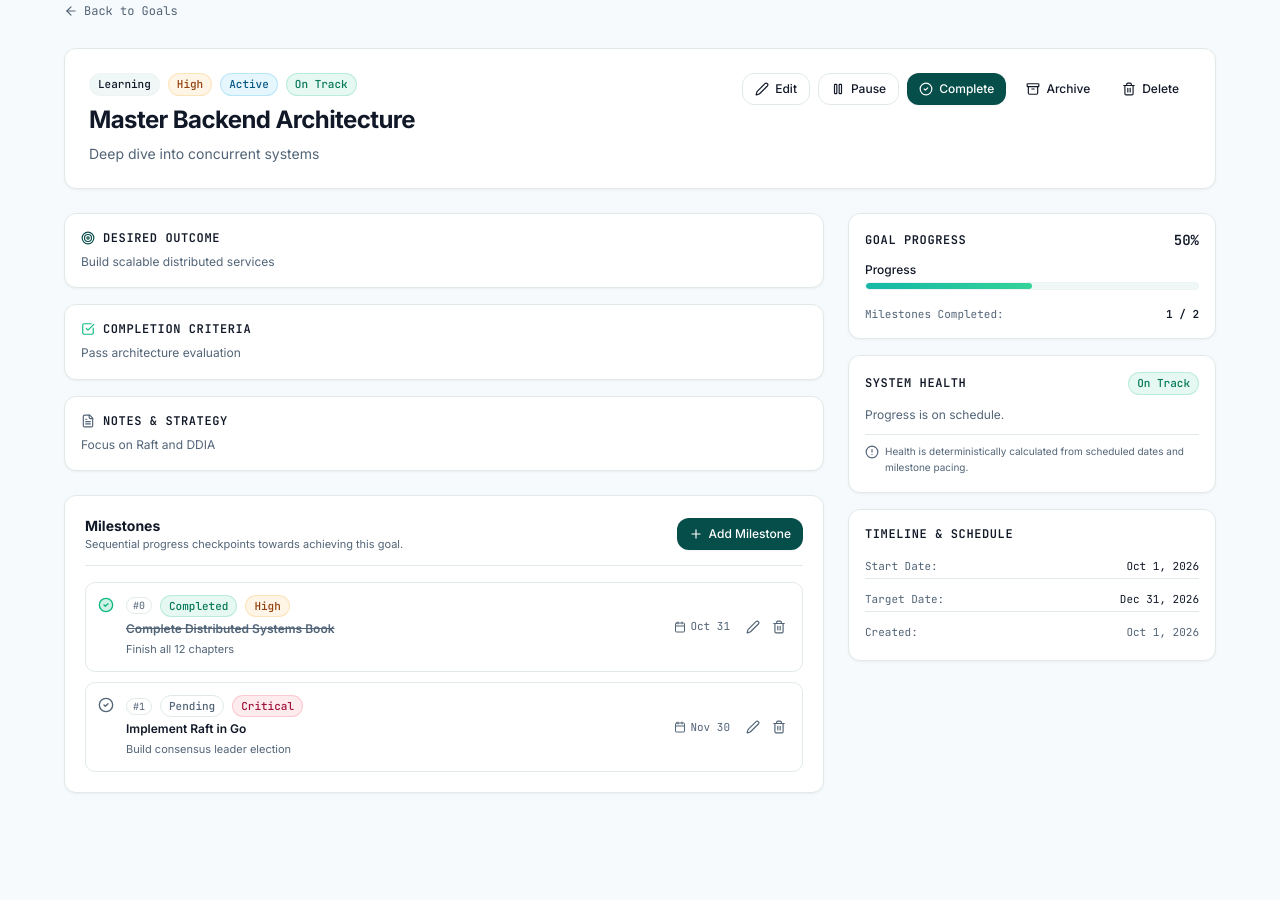
Test: GoalDetailPage Component › opens Delete Confirmation dialog when clicking Delete button
The image size is (1280, 900).
What coordinates should you click on to do the following:
click the button "Delete"
I would click on:
 (1151, 89)
Its box is [1110, 73, 1191, 105].
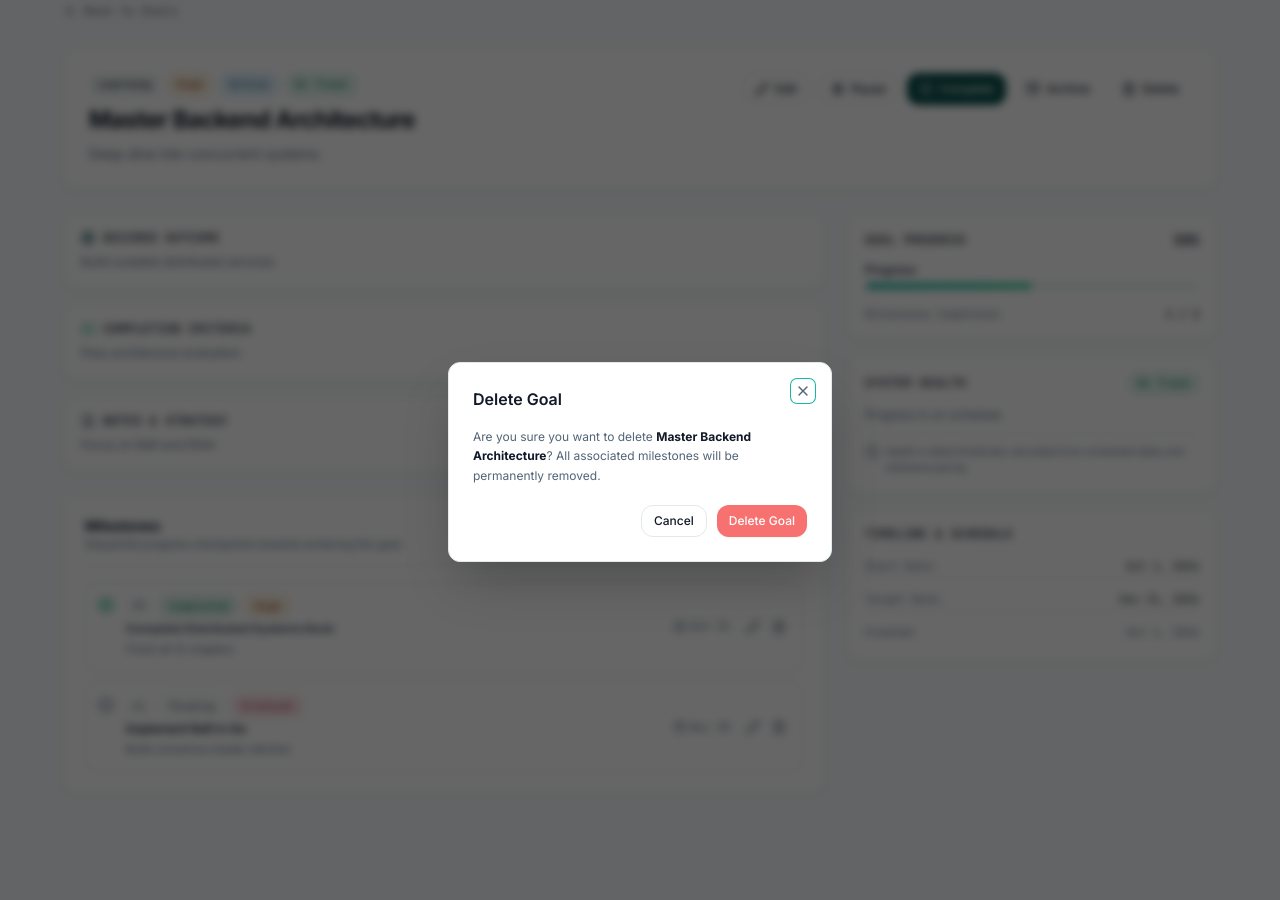
Now the heading "Delete Goal" is shown, box [473, 389, 562, 409]
Now the text "All associated milestones will be permanently removed" is shown, box [473, 448, 739, 483]
